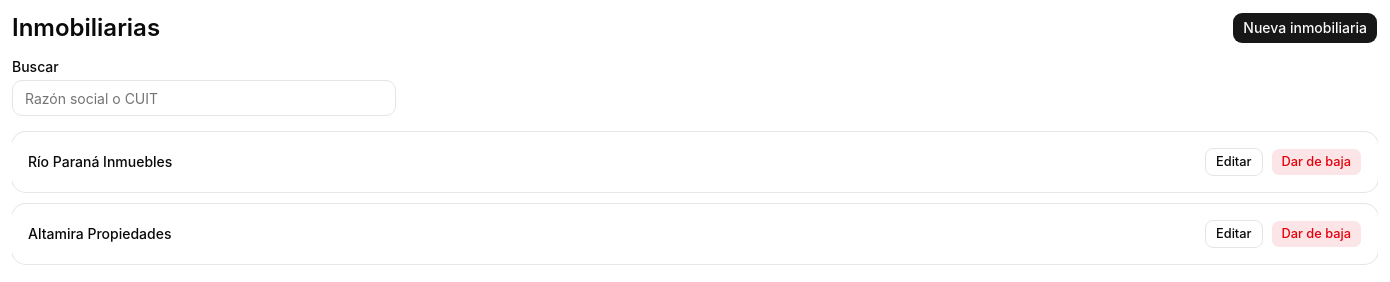
Test: AgenciesPage › filters the list by razón social, ignoring accents
Check: the text "Río Paraná Inmuebles" is shown, box left=28, top=152, right=172, bottom=172
In the search field labelled "Buscar": [204, 98] box left=12, top=80, right=396, bottom=116, type "rio"
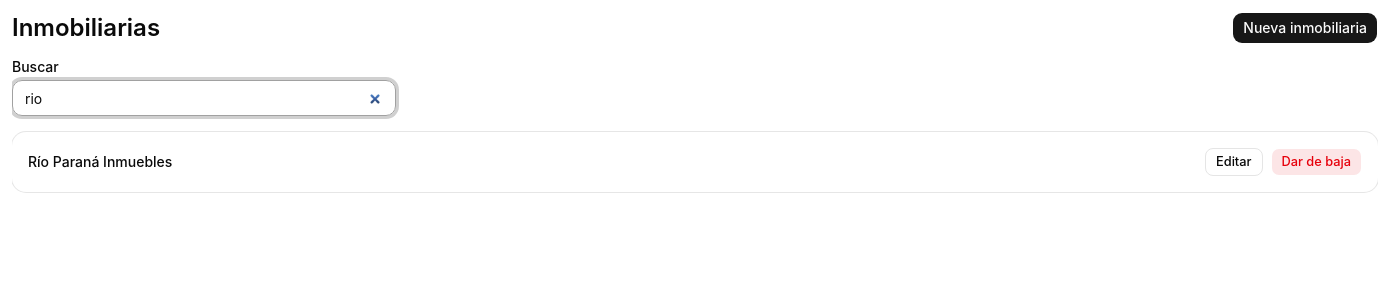
Check: the text "Río Paraná Inmuebles" is shown, box left=28, top=152, right=172, bottom=172
Check: the text "Altamira Propiedades" is gone
